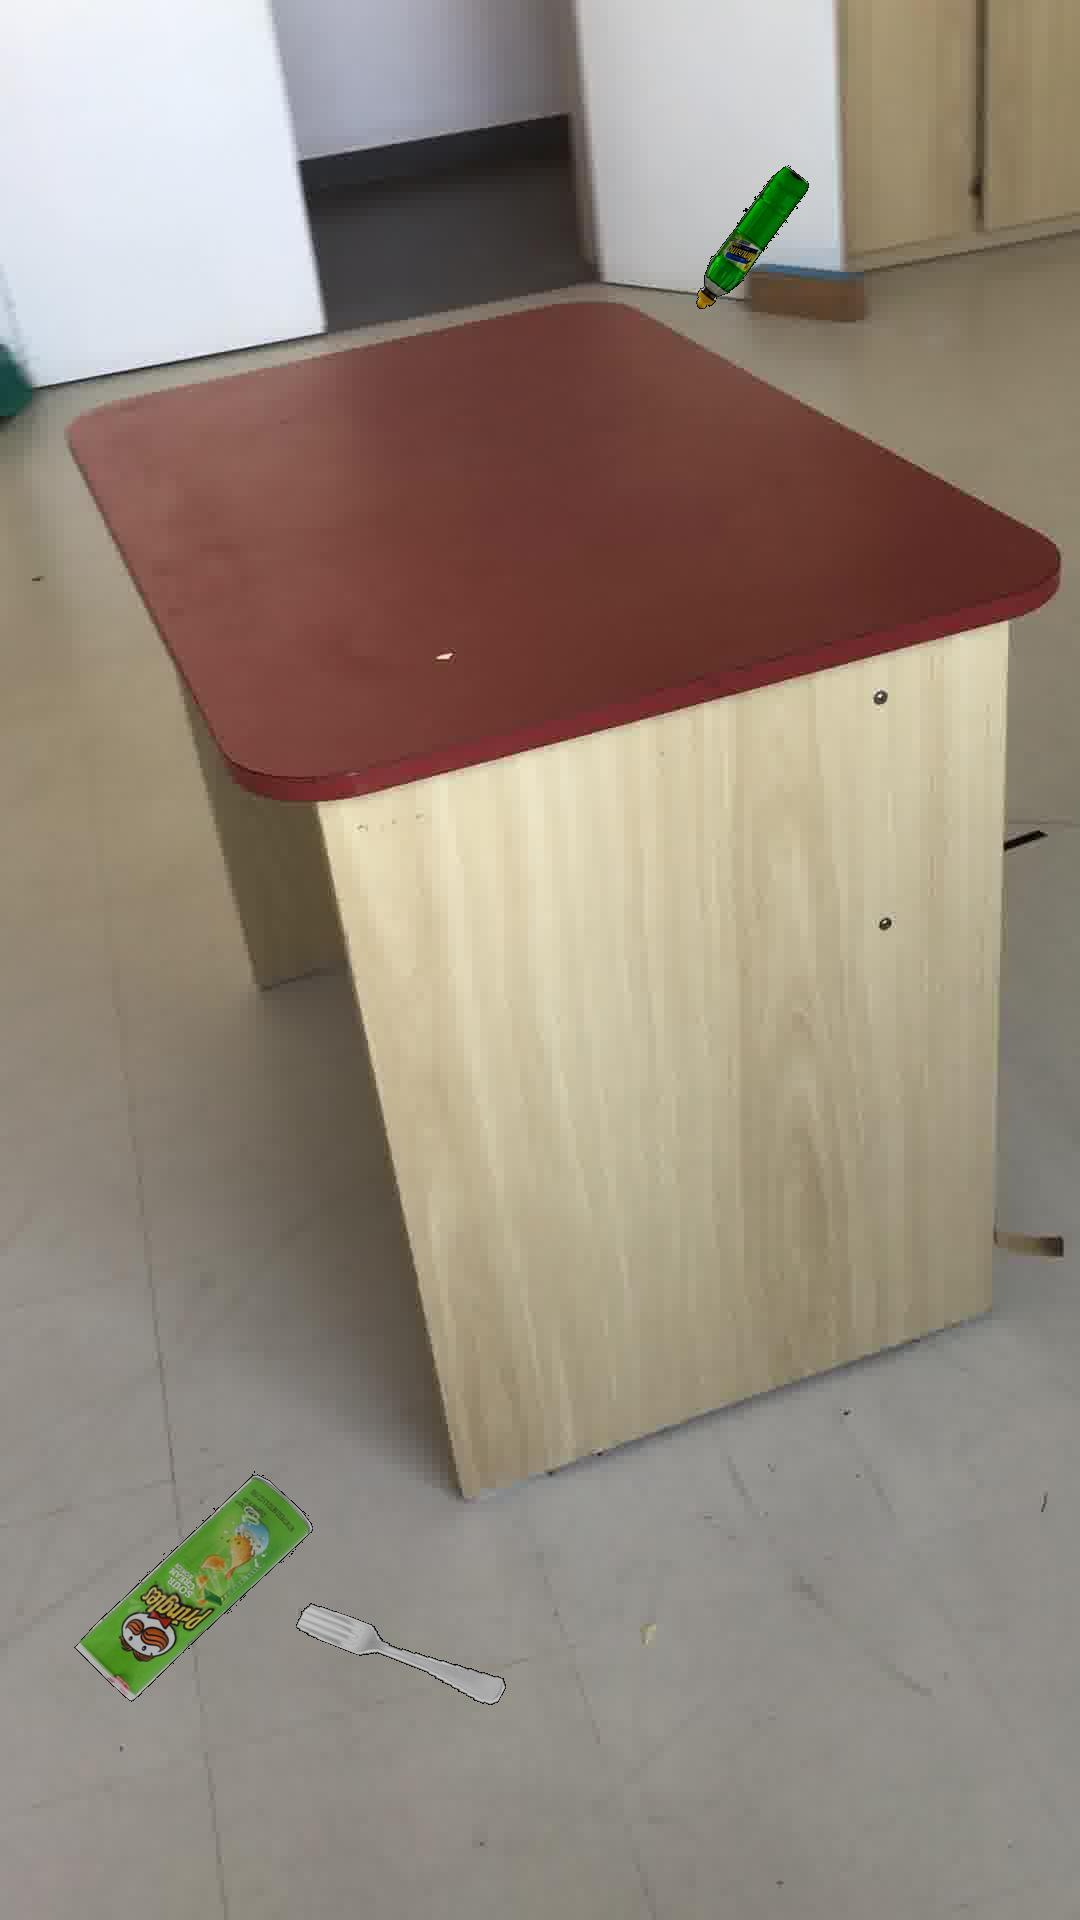cleaner: (695, 166, 807, 307)
fork: (294, 1601, 505, 1704)
pringles: (73, 1473, 310, 1701)
